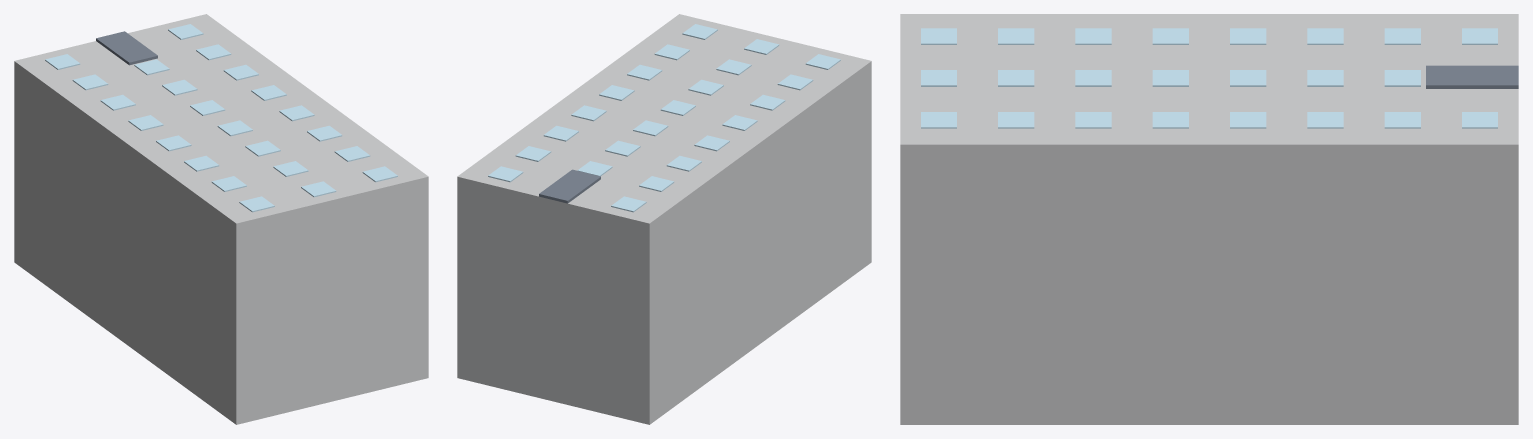
File: tower.glb
The picture shows the model from 3 angles, left to right: view 1: azimuth 30°, elevation 25°; view 2: azimuth 150°, elevation 25°; view 3: azimuth 270°, elevation 25°; orthographic projection. The views are drawn at different scales.
Visible parts, largest first — view 1: mass_0, door_25; view 2: mass_0, door_25; view 3: mass_0, door_25, window_4, window_5, window_6, window_7, window_8, window_9, window_10, window_11, window_12, window_13 (+13 smaller).
Part boxes in pixels (x1=…): mass_0: x1=14, y1=14, x2=428, y2=424; door_25: x1=96, y1=31, x2=157, y2=65; mass_0: x1=457, y1=14, x2=871, y2=424; door_25: x1=539, y1=169, x2=600, y2=203; mass_0: x1=900, y1=14, x2=1518, y2=424; door_25: x1=1426, y1=65, x2=1518, y2=88; window_4: x1=1384, y1=28, x2=1420, y2=44; window_5: x1=1384, y1=70, x2=1420, y2=86; window_6: x1=1384, y1=112, x2=1420, y2=128; window_7: x1=1307, y1=28, x2=1343, y2=44; window_8: x1=1307, y1=70, x2=1343, y2=86; window_9: x1=1307, y1=112, x2=1343, y2=128; window_10: x1=1230, y1=28, x2=1266, y2=44; window_11: x1=1230, y1=70, x2=1266, y2=86; window_12: x1=1230, y1=112, x2=1266, y2=128; window_13: x1=1152, y1=28, x2=1188, y2=44.
Bounding box in the file's own units: 6 × 6.08 × 12.
